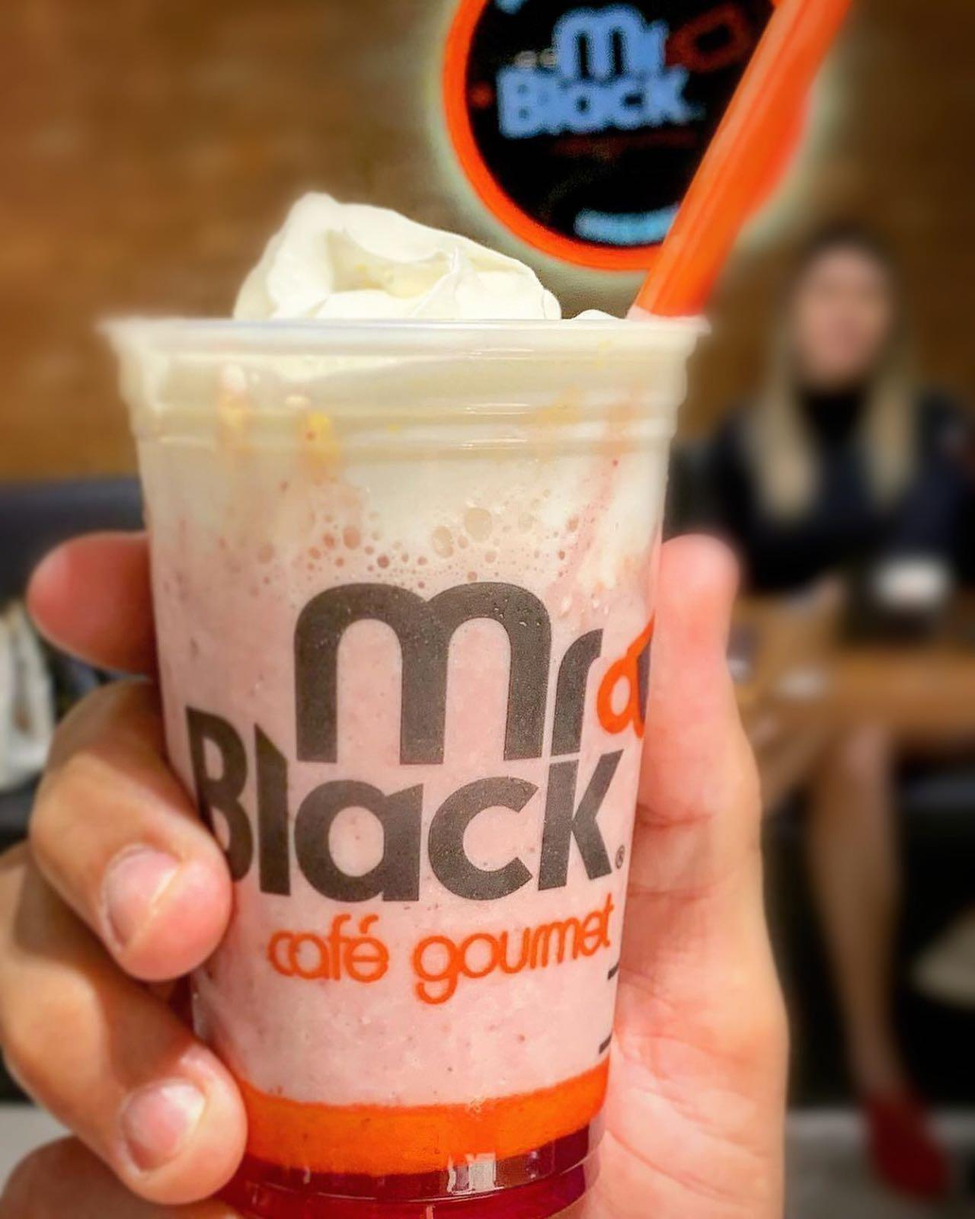cup-disposable: (104, 280, 718, 1219)
